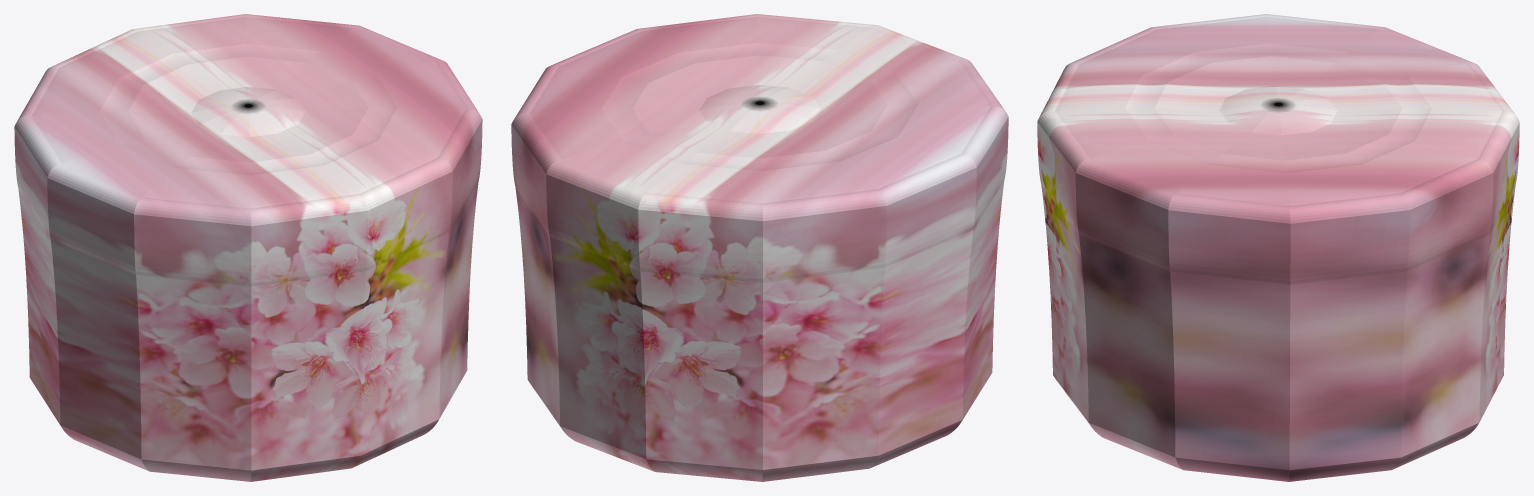
The model's file is texture_773079777641.obj.
3 views of the same model, side by side, from view 1: azimuth 30°, elevation 25°; view 2: azimuth 150°, elevation 25°; view 3: azimuth 270°, elevation 25° (orthographic).
Size of the model in its own units: 2 by 1.33 by 2.
